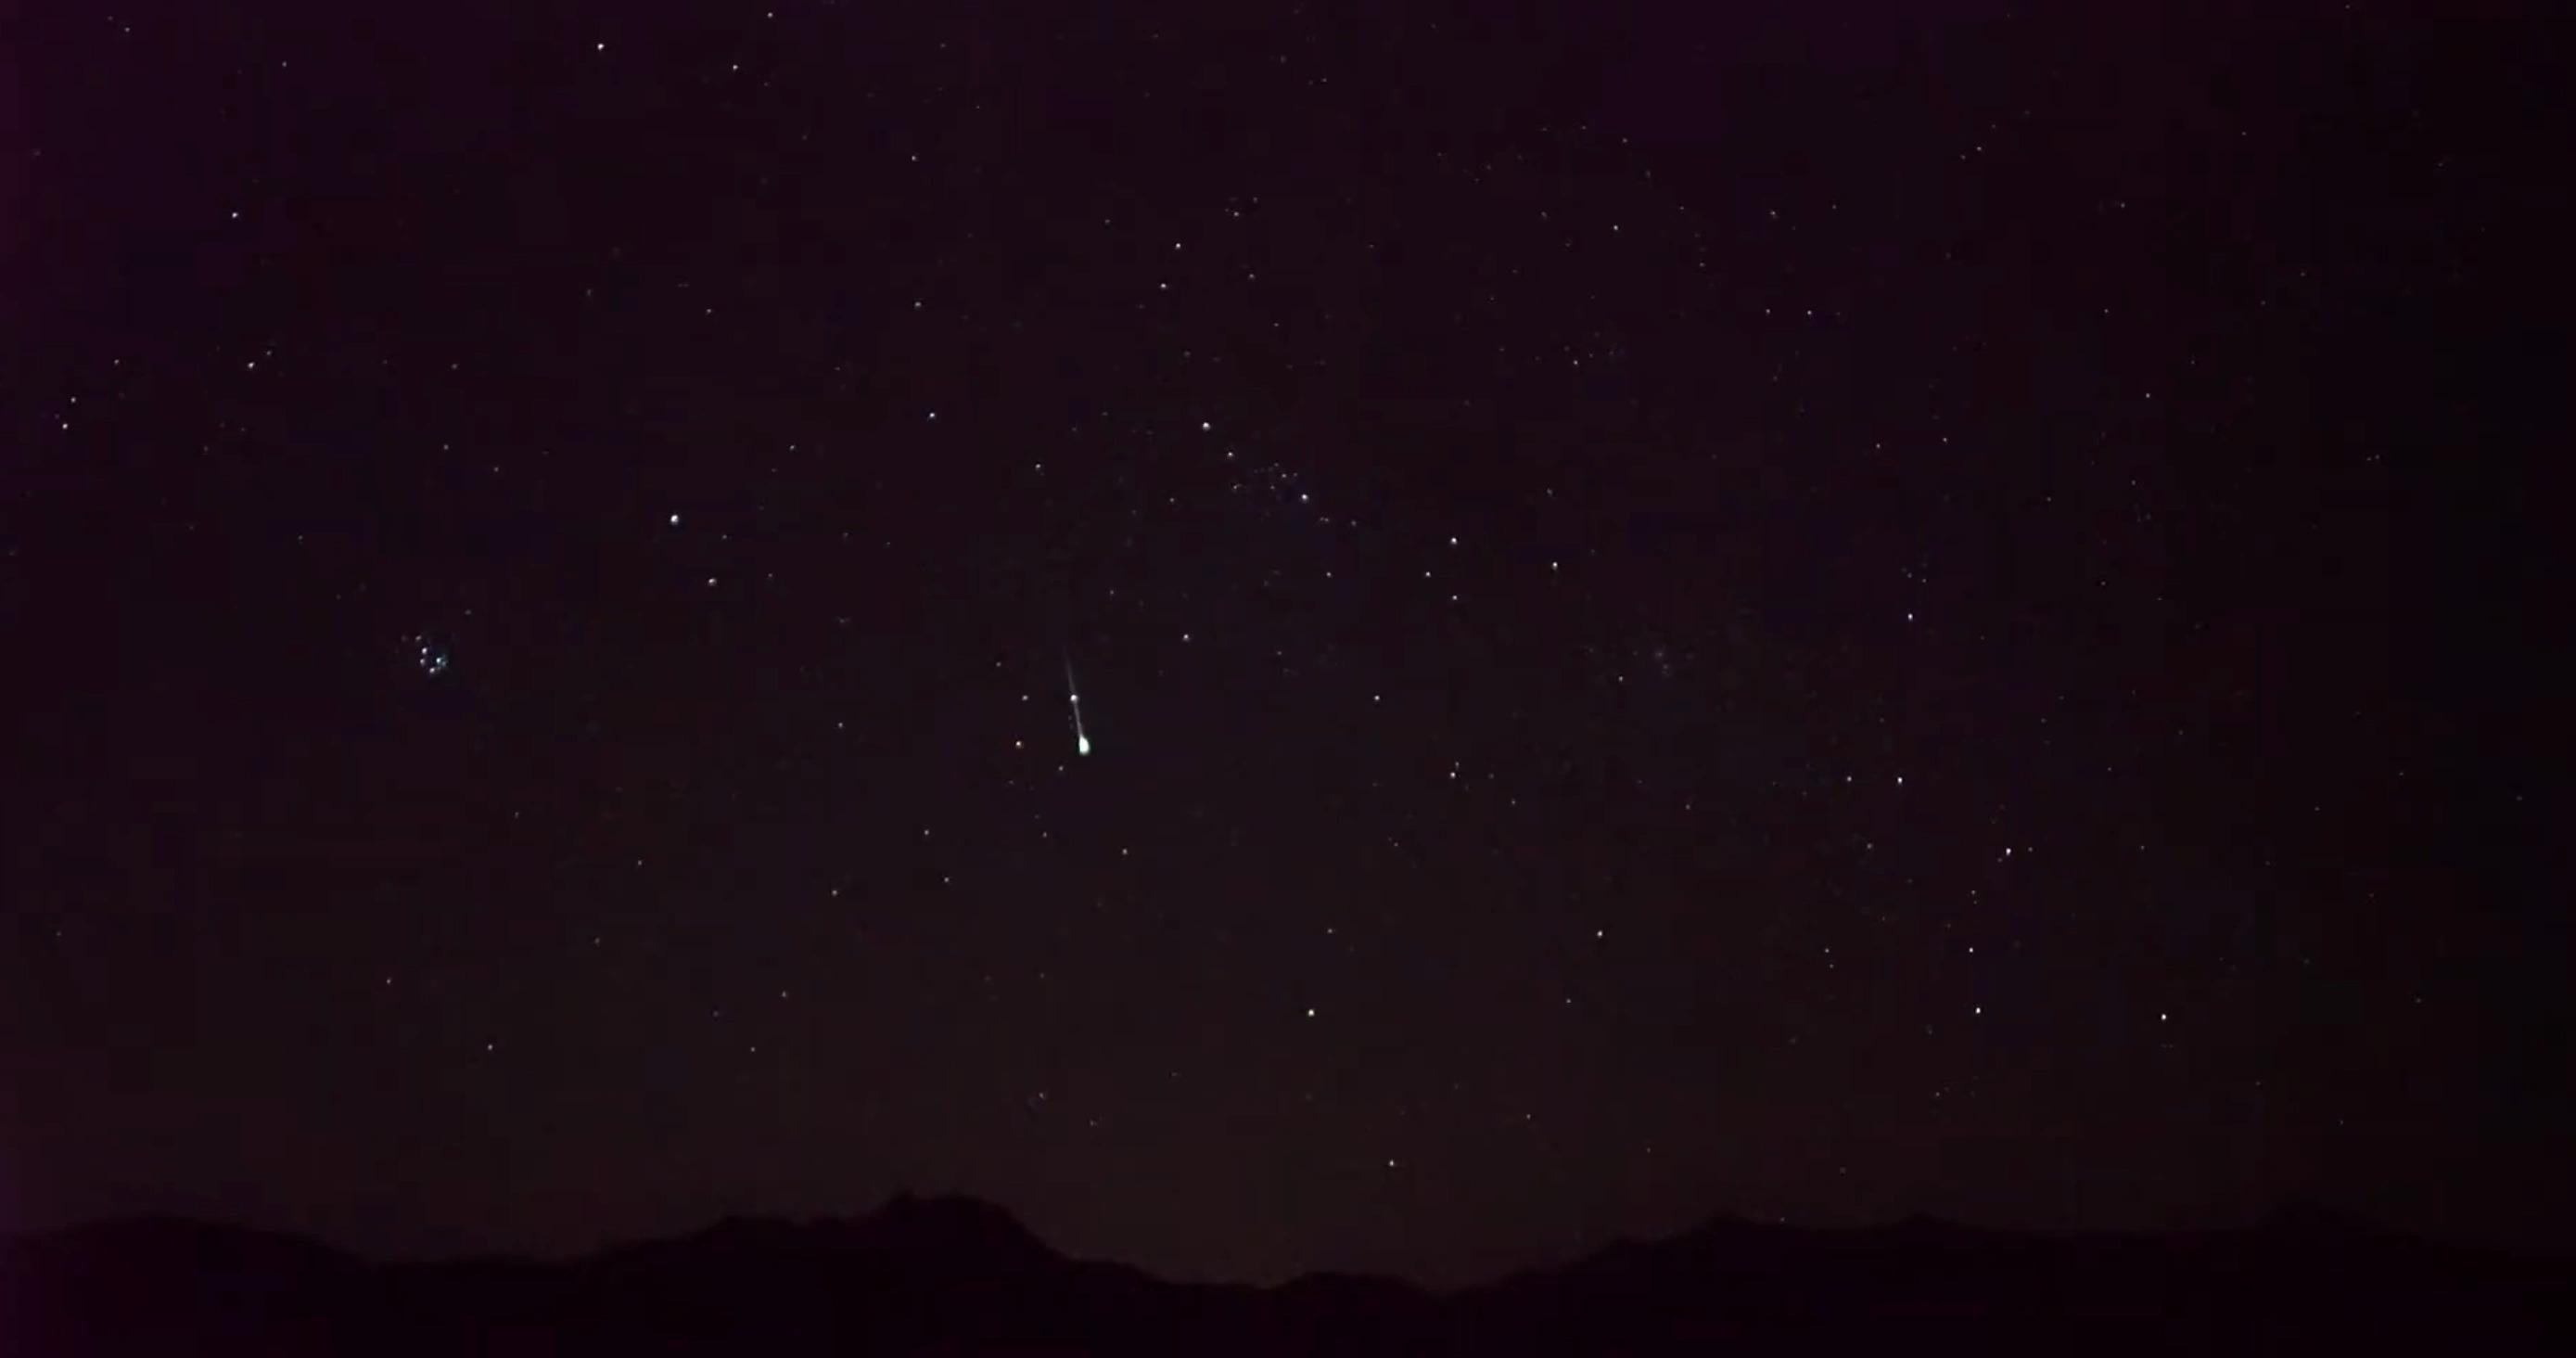meteorite: (1022, 634, 1147, 774)
